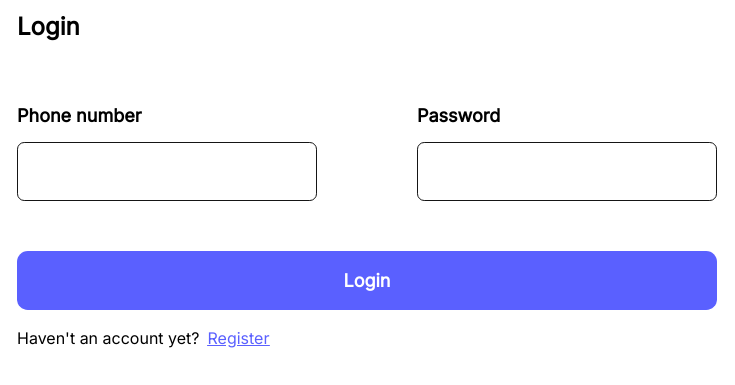
Test case: Given a Register component › When it is instantiated › And the user type an incorrect phoneNumber or password › Then it should show a message error 'Invalid phone number or password.'
The width and height of the screenshot is (735, 385).
Type "618035777" into the number field labelled "Phone number" at (167, 172), box [17,142,317,201]
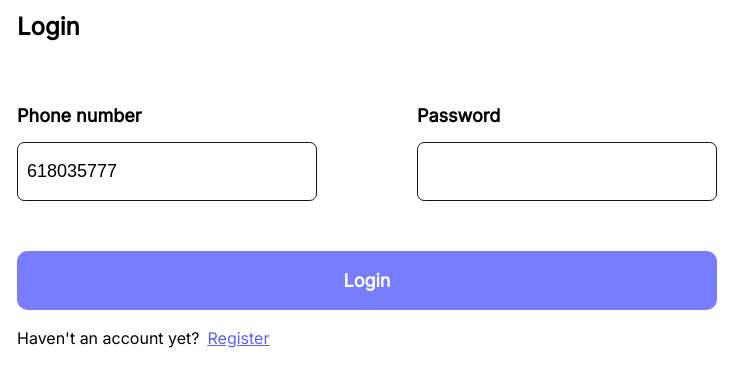
Type "passwordtest" into the password field labelled "Password" at (567, 172), box [417,142,717,201]
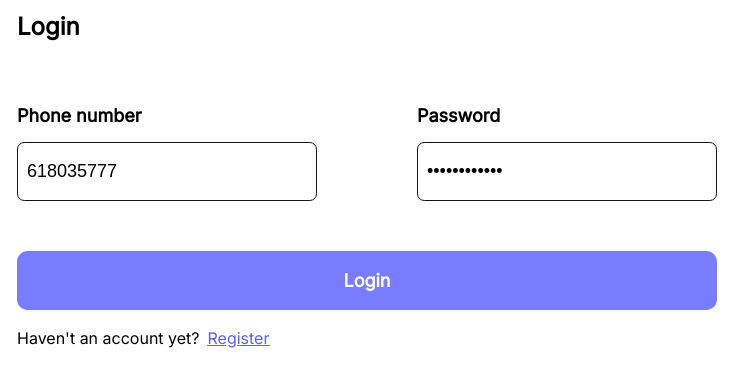
Click the button "Login" at (367, 280), box [17,251,717,310]
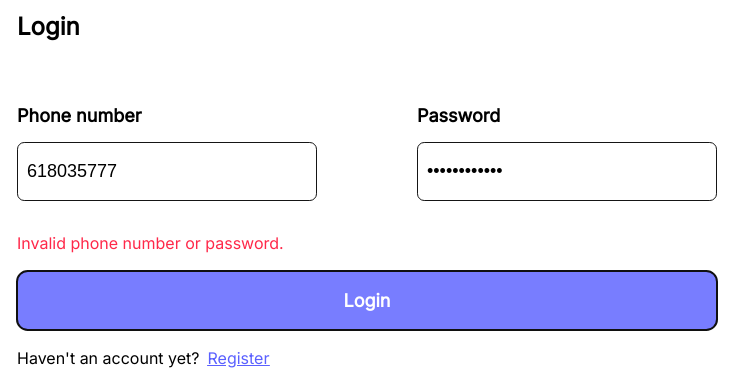
Expected: the text "Invalid phone number or password." is shown, [17,233,284,253]
